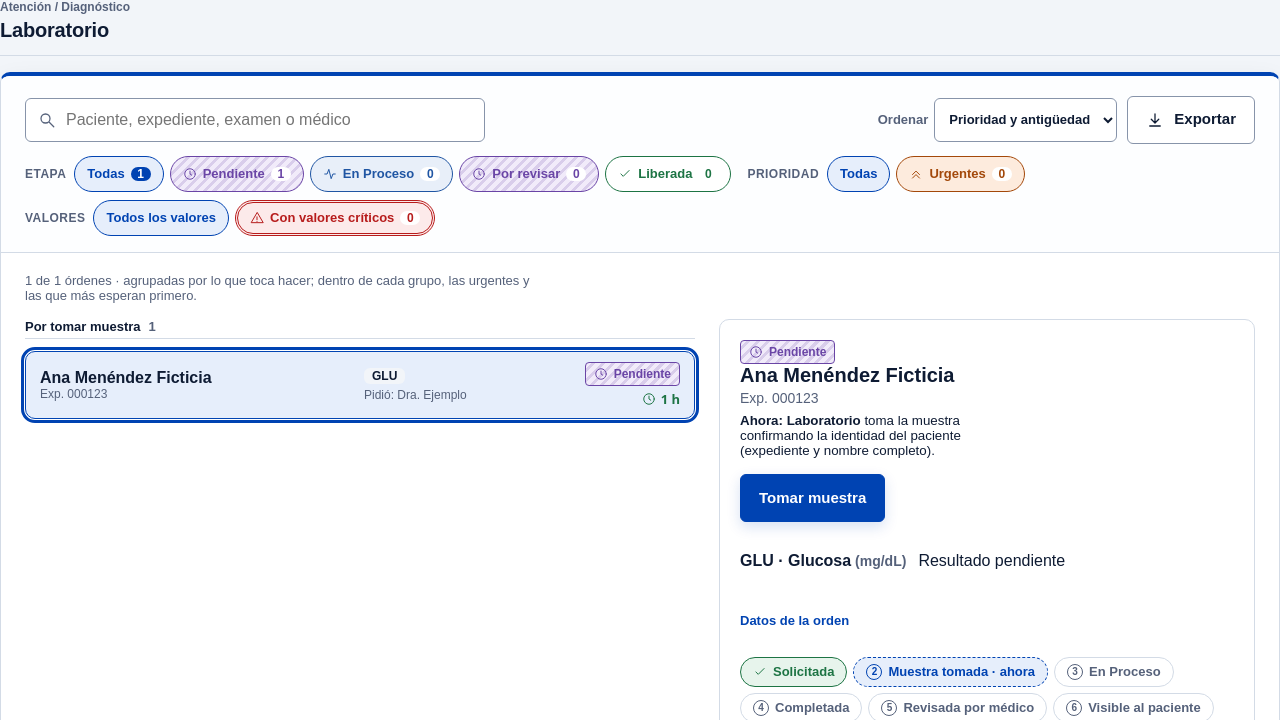
Scenario: Laboratorio · auditoría 2026-11-20 › D102: a name that only misses its accents says so, and confirming stays off
Click the button "Tomar muestra". click: click(813, 498)
box: [740,474,885,522]
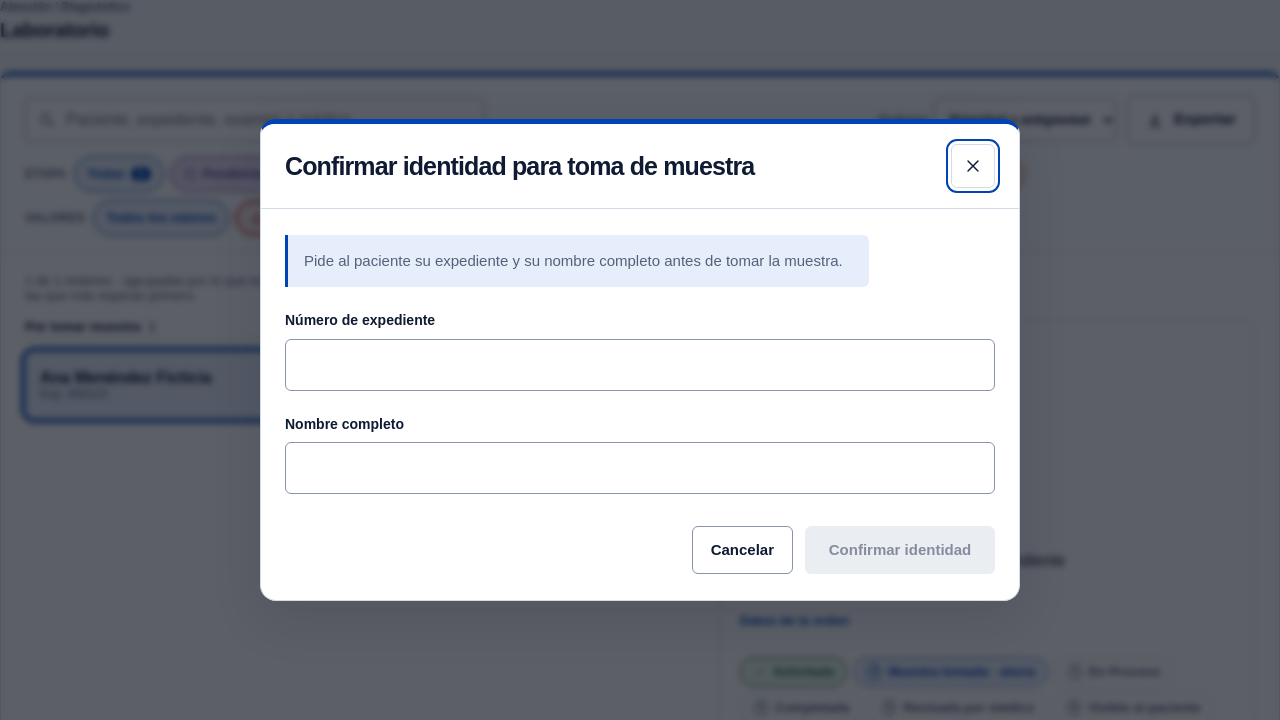
Type "000123" into the field labelled "Número de expediente". click: (640, 364)
box: [285,338,995,390]
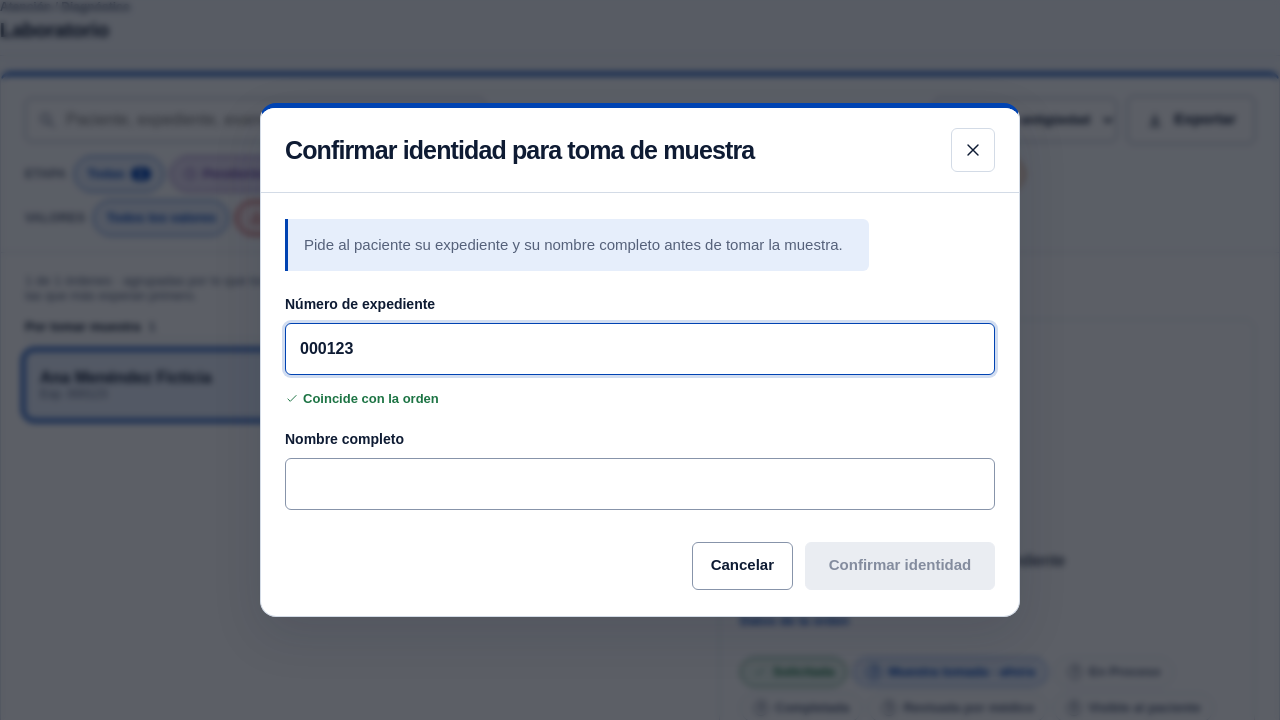
Type "ana menendez ficticia" into the field labelled "Nombre completo". click: (640, 484)
box: [285,458,995,510]
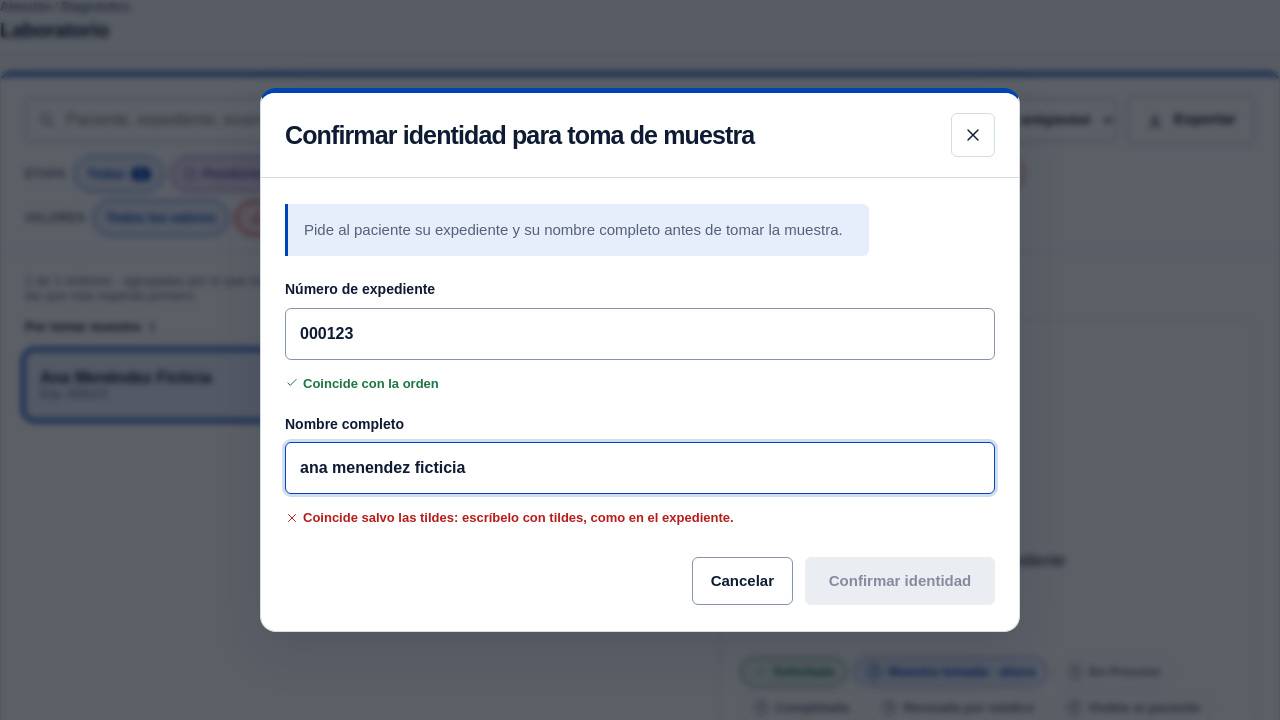
Now the button "Confirmar identidad" is disabled, box [805,557,995,605]
Now the text "Coincide salvo las tildes: escríbelo con tildes, como en el expediente." is shown, box [285,510,734,525]
